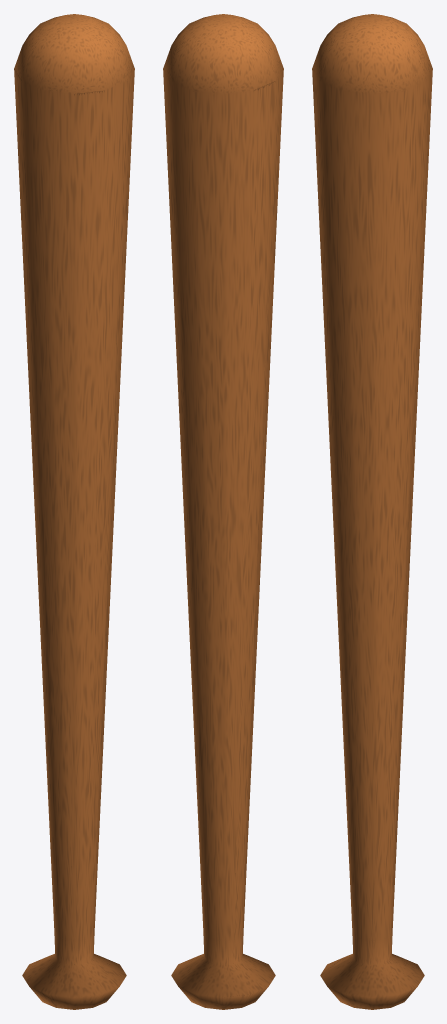
Rendered from baseball_bat.glb.
3 views of the same model, side by side, from view 1: azimuth 90°, elevation 25°; view 2: azimuth 210°, elevation 25°; view 3: azimuth 270°, elevation 25° (orthographic).
Parts seen in each view (by area): view 1: baseball_bat; view 2: baseball_bat; view 3: baseball_bat.
Boxes of the visible parts, <box> form: baseball_bat: <box>14,14,134,1009</box>; baseball_bat: <box>163,14,283,1009</box>; baseball_bat: <box>312,14,432,1009</box>.
Size of the model in its own units: 0.4981 by 4.47 by 0.4981.
Materials: 1 (1 with a texture image).
